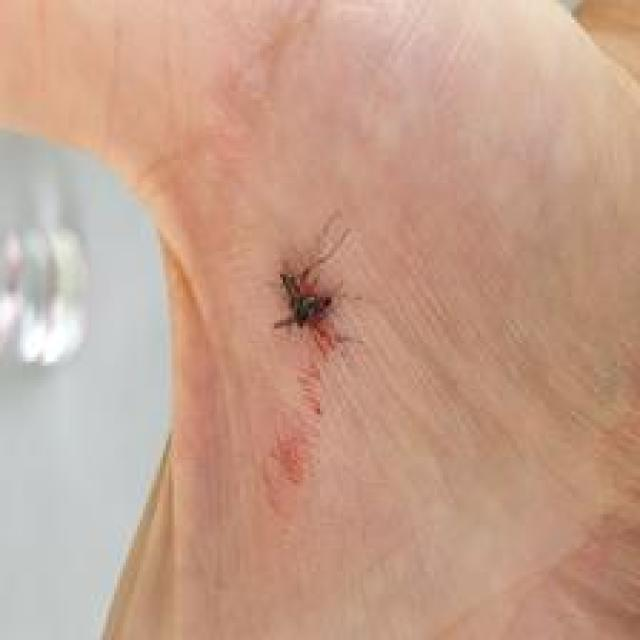Aedes albopictus: (271, 223, 363, 360)
